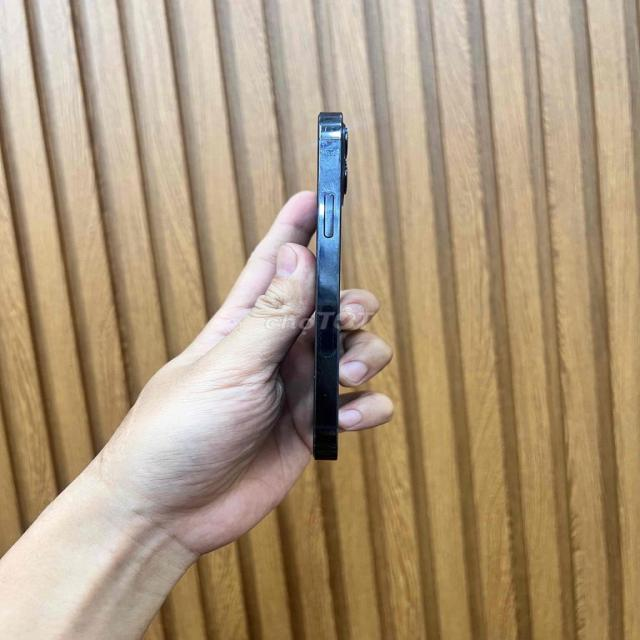gen_12_13: (293, 103, 372, 465)
scratch: (314, 137, 346, 196)
